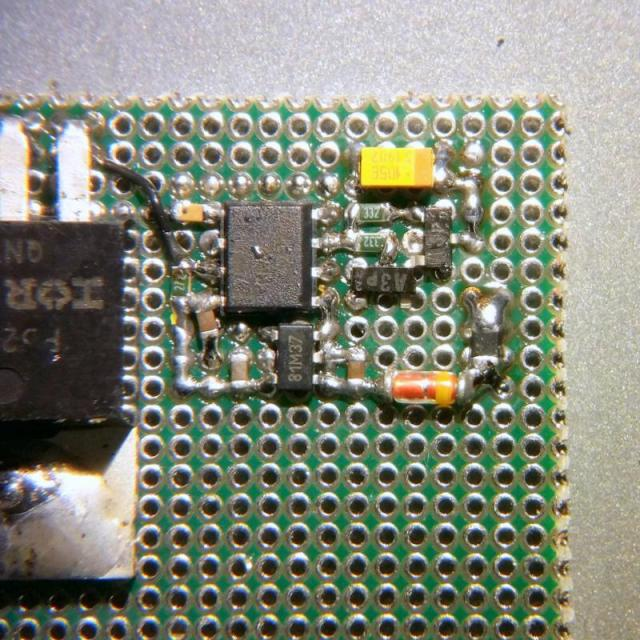Short_circuit: (158, 123, 514, 415)
